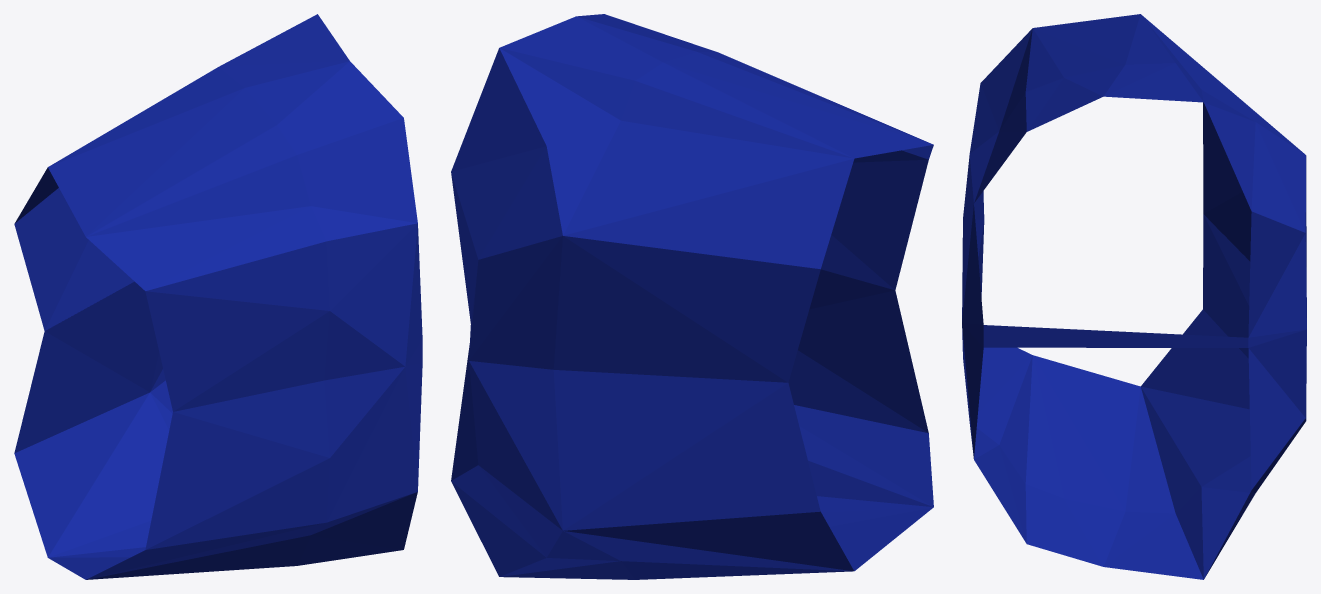
Rendered from TestAbdomen.obj.
3 views of the same model, side by side, from view 1: azimuth 30°, elevation 25°; view 2: azimuth 150°, elevation 25°; view 3: azimuth 270°, elevation 25° (orthographic). The views are drawn at different scales.
Parts seen in each view (by area): view 1: TestStomachArmor_Cube.006; view 2: TestStomachArmor_Cube.006; view 3: TestStomachArmor_Cube.006.
Boxes of the visible parts, <box> form: TestStomachArmor_Cube.006: <box>14,14,422,579</box>; TestStomachArmor_Cube.006: <box>451,14,933,579</box>; TestStomachArmor_Cube.006: <box>962,14,1306,579</box>.
Size of the model in its own units: 0.2825 by 0.395 by 0.2586.
